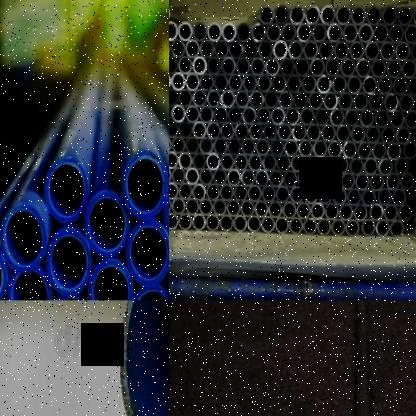pipe: (120, 300, 169, 416), (122, 149, 169, 223), (82, 189, 130, 260), (41, 159, 92, 225), (47, 226, 93, 298), (0, 205, 51, 269), (125, 218, 169, 289), (4, 268, 54, 300), (92, 264, 128, 300), (128, 284, 169, 300), (0, 242, 10, 300), (177, 20, 193, 42), (221, 22, 237, 44), (296, 22, 312, 44), (311, 22, 327, 44), (327, 22, 343, 44), (358, 22, 374, 44), (373, 22, 389, 44), (199, 38, 215, 60), (318, 39, 334, 61), (349, 40, 365, 62), (364, 40, 380, 62), (386, 58, 402, 80), (362, 74, 378, 96), (377, 74, 393, 96), (353, 90, 369, 112), (398, 92, 414, 114), (389, 108, 405, 130), (380, 124, 396, 146), (395, 124, 411, 146), (274, 4, 290, 26), (289, 4, 305, 26), (259, 4, 275, 26), (314, 107, 331, 127), (228, 39, 244, 60), (243, 39, 259, 60), (303, 40, 319, 61), (206, 55, 222, 76), (279, 56, 295, 77), (256, 73, 272, 94), (271, 73, 287, 94), (286, 73, 302, 94), (392, 75, 408, 96), (329, 107, 345, 128), (374, 108, 390, 129), (234, 121, 250, 142), (350, 124, 366, 145), (226, 167, 242, 188), (219, 182, 235, 203), (335, 5, 351, 26), (236, 22, 251, 44), (281, 22, 296, 44), (266, 22, 281, 44), (343, 22, 358, 44), (389, 23, 404, 45), (171, 38, 186, 60), (214, 38, 229, 60), (334, 39, 349, 61), (380, 40, 395, 62), (395, 40, 410, 62), (371, 57, 386, 79), (338, 90, 353, 112), (305, 4, 320, 26), (320, 4, 335, 26), (397, 6, 413, 26), (235, 56, 251, 76), (340, 58, 356, 78), (355, 58, 371, 78), (170, 72, 186, 92), (199, 72, 215, 92), (301, 74, 317, 94), (278, 90, 294, 110), (293, 90, 309, 110), (368, 92, 384, 112), (241, 106, 257, 126), (270, 106, 286, 126), (299, 107, 315, 127), (344, 108, 360, 128), (359, 108, 375, 128), (269, 138, 285, 158), (327, 139, 343, 159), (342, 140, 358, 160), (319, 154, 335, 174), (333, 155, 349, 175), (240, 168, 256, 188), (254, 168, 270, 188), (297, 170, 313, 190), (325, 172, 341, 192), (399, 172, 415, 192), (385, 172, 401, 192), (340, 172, 356, 192), (205, 182, 221, 202), (261, 184, 277, 204), (289, 184, 305, 204), (317, 186, 333, 206), (377, 187, 393, 207), (192, 21, 207, 42), (207, 22, 222, 43), (251, 22, 266, 43), (185, 38, 200, 59), (258, 39, 273, 60), (273, 39, 288, 60), (288, 40, 303, 61), (192, 55, 207, 76), (221, 55, 236, 76), (265, 56, 280, 77), (295, 56, 310, 77), (310, 57, 325, 78), (325, 57, 340, 78), (401, 58, 416, 79), (332, 74, 347, 95), (347, 74, 362, 95), (323, 90, 338, 111), (384, 92, 399, 113), (171, 103, 186, 124), (199, 104, 214, 125), (372, 141, 387, 162), (387, 141, 402, 162), (349, 156, 364, 177), (363, 156, 378, 177), (351, 5, 366, 26), (366, 5, 381, 26), (178, 54, 192, 76), (382, 6, 397, 26), (250, 56, 265, 76), (185, 72, 200, 92), (228, 73, 243, 93), (242, 73, 257, 93), (316, 74, 331, 94), (192, 88, 207, 108), (264, 90, 279, 110), (308, 90, 323, 110), (227, 105, 242, 125), (256, 106, 271, 126), (285, 106, 300, 126), (206, 120, 221, 140), (220, 120, 235, 140), (263, 122, 278, 142), (277, 122, 292, 142), (306, 122, 321, 142), (321, 123, 336, 143), (336, 124, 351, 144), (366, 125, 381, 145), (241, 137, 256, 157), (255, 137, 270, 157), (284, 138, 299, 158), (313, 138, 328, 158), (401, 140, 416, 160), (357, 140, 372, 160), (248, 152, 263, 172), (276, 154, 291, 174), (290, 154, 305, 174), (305, 154, 320, 174), (394, 155, 409, 175), (378, 157, 393, 177), (269, 168, 284, 188), (283, 170, 298, 190), (311, 170, 326, 190), (355, 172, 370, 192), (370, 173, 385, 193), (233, 183, 248, 203), (247, 184, 262, 204), (275, 184, 290, 204), (304, 185, 319, 205), (333, 186, 348, 206), (392, 187, 407, 207), (347, 187, 362, 207), (361, 188, 376, 208), (254, 199, 269, 219), (250, 89, 264, 110), (214, 104, 228, 125), (178, 119, 192, 140), (249, 121, 263, 142), (213, 136, 227, 157), (179, 150, 193, 171), (240, 198, 254, 219), (206, 89, 221, 108), (235, 90, 250, 109), (199, 136, 214, 155), (234, 153, 249, 172), (171, 166, 186, 185), (171, 197, 186, 216), (353, 203, 368, 222), (233, 214, 248, 233), (246, 214, 261, 233), (289, 216, 304, 235), (303, 216, 318, 235), (331, 218, 346, 237), (345, 219, 360, 238), (214, 72, 228, 92), (178, 88, 192, 108), (221, 88, 235, 108), (192, 120, 206, 140), (292, 122, 306, 142), (299, 138, 313, 158), (192, 152, 206, 172), (206, 152, 220, 172), (220, 152, 234, 172), (262, 153, 276, 173), (227, 198, 241, 218), (283, 200, 297, 220), (296, 201, 310, 221), (325, 202, 339, 222), (178, 212, 192, 232), (340, 202, 353, 223), (205, 214, 220, 232), (316, 218, 331, 236), (178, 182, 192, 201), (192, 183, 206, 202), (369, 203, 383, 222), (384, 203, 398, 222), (398, 204, 412, 223), (192, 213, 206, 232), (261, 215, 275, 234), (361, 218, 375, 237), (390, 219, 404, 238), (186, 104, 199, 124), (172, 135, 185, 155), (186, 135, 199, 155), (186, 197, 199, 217), (200, 197, 213, 217), (269, 200, 282, 220), (311, 202, 324, 222), (404, 108, 416, 129), (227, 138, 241, 156), (213, 168, 227, 186), (220, 214, 234, 232), (275, 216, 289, 234), (186, 167, 199, 186), (213, 198, 226, 217), (376, 219, 389, 238), (404, 24, 416, 44), (200, 168, 213, 186), (407, 74, 416, 96), (169, 20, 178, 41), (169, 54, 178, 74), (169, 87, 178, 107), (169, 212, 179, 230), (169, 119, 178, 138), (169, 150, 178, 169), (169, 182, 178, 200), (409, 41, 416, 62), (412, 5, 416, 26), (169, 197, 172, 216), (169, 166, 172, 184)
